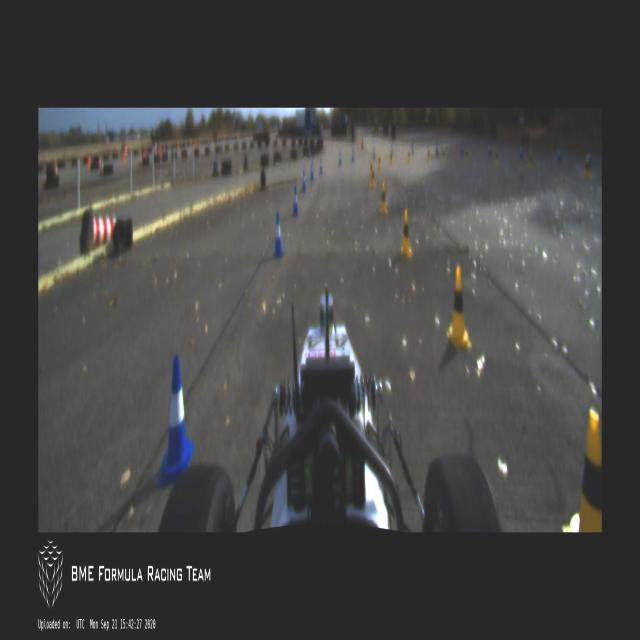blue_cone: (158, 357, 195, 483), (272, 211, 284, 257), (292, 186, 300, 214), (301, 171, 306, 191), (310, 162, 314, 180), (488, 138, 492, 156), (519, 142, 523, 160), (557, 142, 561, 160), (318, 158, 322, 175), (434, 140, 438, 154), (339, 150, 341, 166), (352, 148, 354, 162), (462, 142, 464, 156), (373, 146, 375, 158), (412, 142, 414, 154)
yellow_cone: (562, 409, 602, 532), (446, 264, 471, 354), (398, 208, 412, 260), (378, 180, 388, 216), (584, 156, 590, 178), (370, 166, 376, 188), (426, 148, 431, 164), (495, 148, 499, 166), (529, 150, 533, 168), (378, 154, 382, 171), (407, 148, 411, 164), (442, 146, 446, 162), (465, 148, 469, 164), (389, 150, 393, 164), (370, 160, 372, 178)
